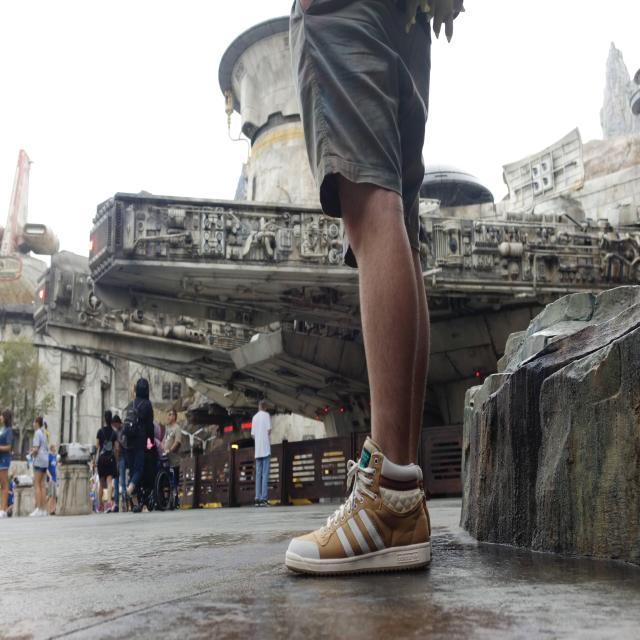shoe: (278, 428, 444, 586)
